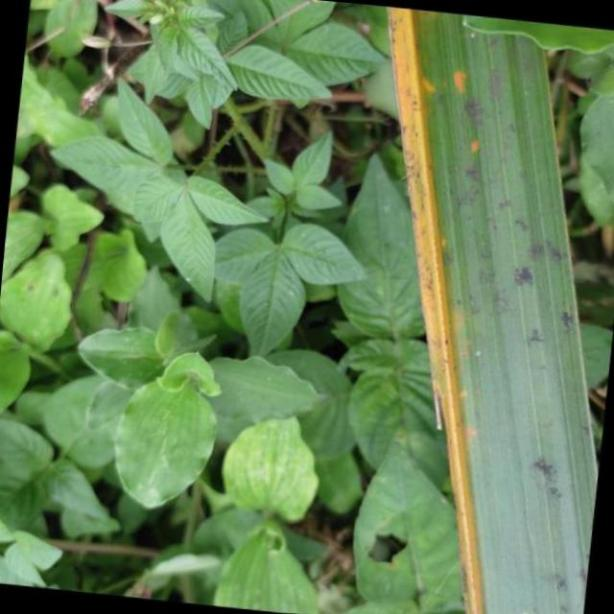Megnesium: (389, 0, 606, 614)
